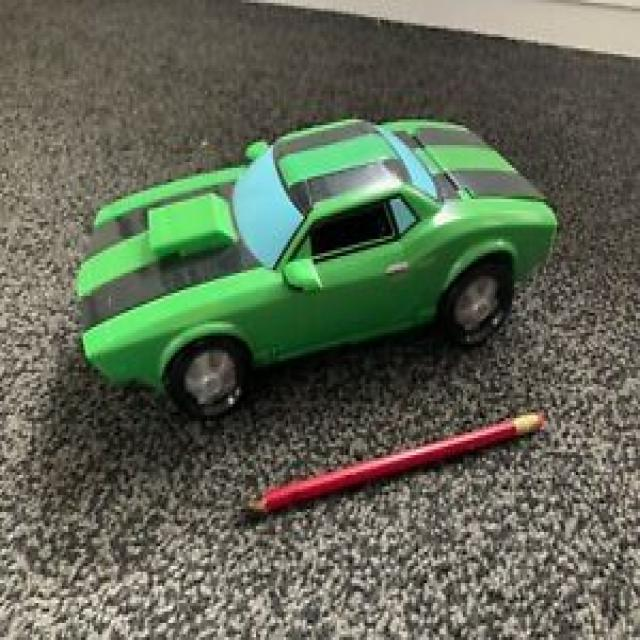Car: (72, 114, 559, 418)
